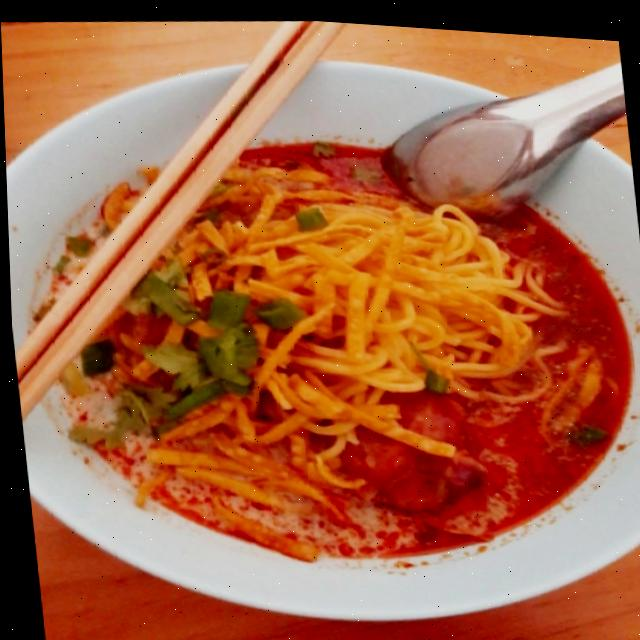面条主食: (1, 29, 640, 640)
